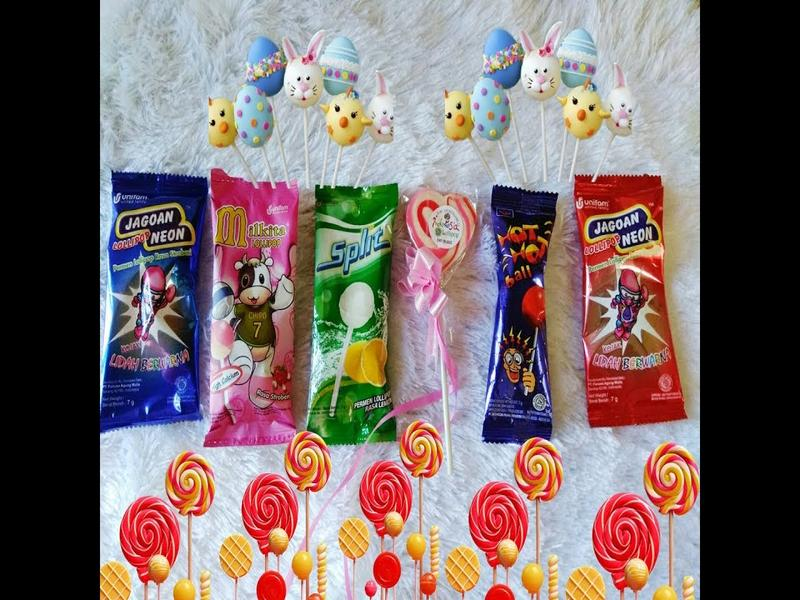jagoan_neon: (574, 173, 687, 429), (102, 172, 209, 432)
